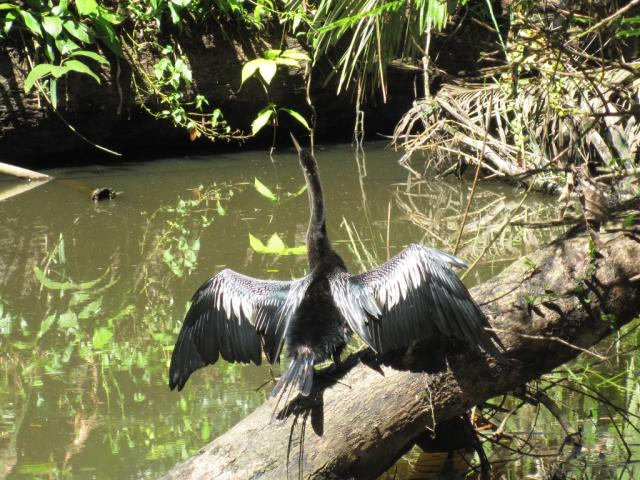Bird: (167, 125, 505, 403)
